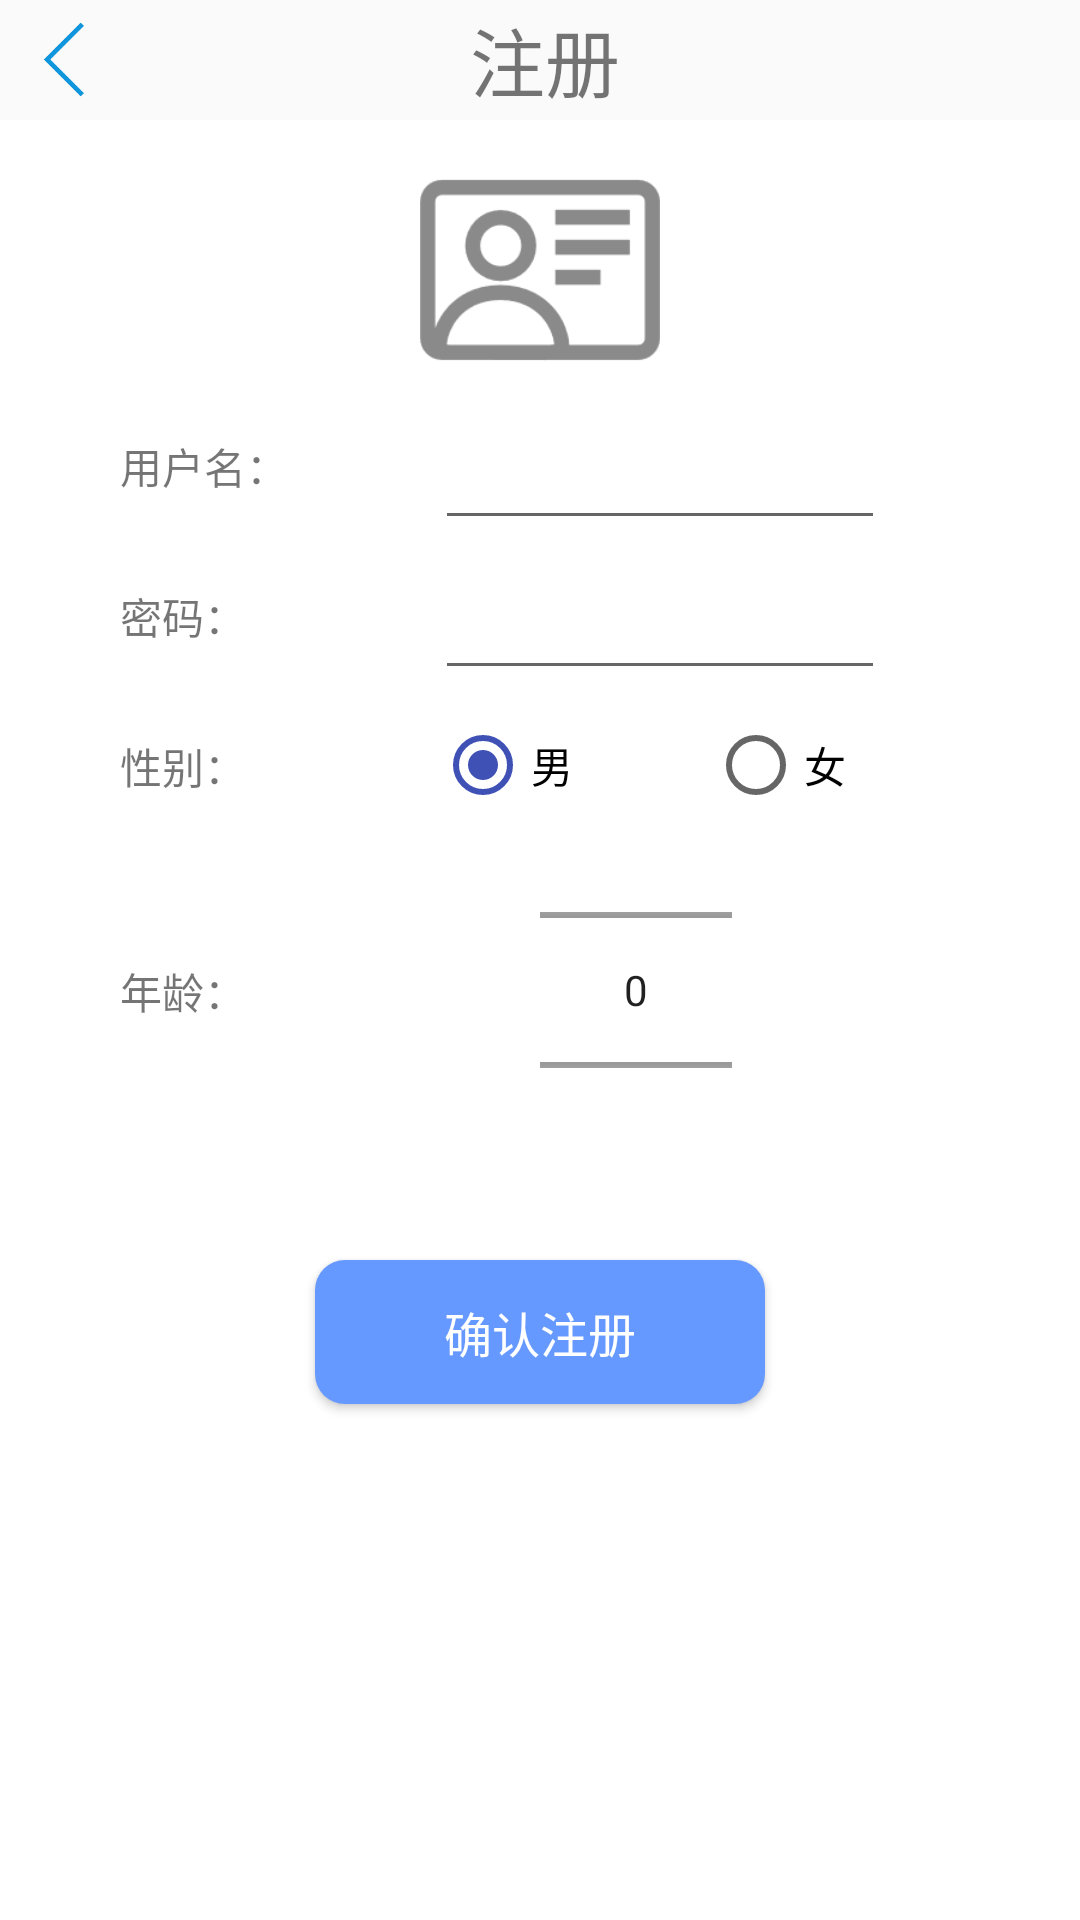

Screen size 1080*1920. Icon name, then its box in pixels as (x1, y1, x2, y2):
back: (44, 23, 84, 96)
head: (420, 180, 660, 360)
